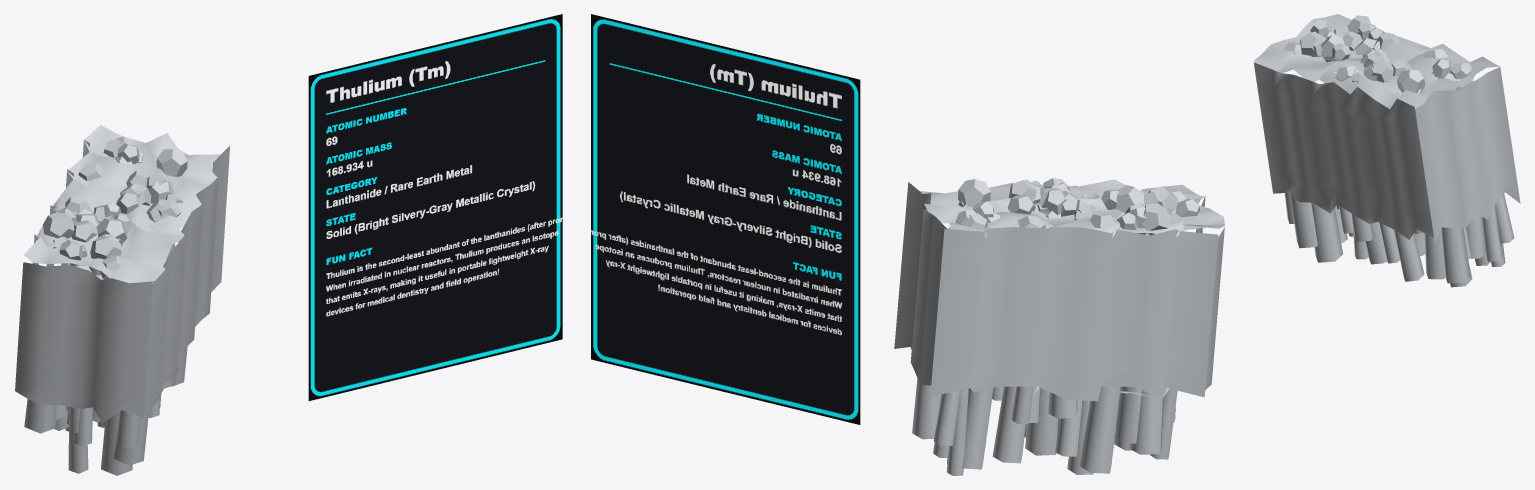
Rendered from thullium.glb.
The picture shows the model from 3 angles, left to right: view 1: azimuth 30°, elevation 25°; view 2: azimuth 150°, elevation 25°; view 3: azimuth 270°, elevation 25°; orthographic projection. The views are drawn at different scales.
Parts seen in each view (by area): view 1: Mesh_97, Mesh_0, Mesh_3, Mesh_46, Mesh_31, Mesh_43, Mesh_7, Mesh_68, Mesh_61, Mesh_49, Mesh_69; view 2: Mesh_97, Mesh_0, Mesh_11, Mesh_6, Mesh_45, Mesh_31, Mesh_29, Mesh_22, Mesh_52, Mesh_24, Mesh_47, Mesh_41 (+4 smaller); view 3: Mesh_0, Mesh_22, Mesh_3, Mesh_7, Mesh_10, Mesh_50, Mesh_9, Mesh_15, Mesh_47, Mesh_68, Mesh_26, Mesh_27 (+4 smaller).
Part boxes in pixels (x1,y1,x2,y2): Mesh_97: (308,14,562,400); Mesh_0: (15,125,229,423); Mesh_3: (101,411,132,475); Mesh_46: (68,407,88,473); Mesh_31: (24,399,56,433); Mesh_43: (116,410,140,448); Mesh_7: (113,414,148,465); Mesh_68: (156,149,187,176); Mesh_61: (43,212,74,238); Mesh_49: (73,407,92,446); Mesh_69: (90,235,121,259); Mesh_97: (591,14,860,424); Mesh_0: (894,179,1224,401); Mesh_11: (1079,386,1120,473); Mesh_6: (962,388,993,469); Mesh_45: (992,386,1025,463); Mesh_31: (1129,390,1163,454); Mesh_29: (1025,388,1058,455); Mesh_22: (912,378,941,439); Mesh_52: (1115,386,1141,443); Mesh_24: (946,388,968,475); Mesh_47: (933,390,959,445); Mesh_41: (1055,400,1082,456); Mesh_0: (1253,14,1520,242); Mesh_22: (1441,227,1470,283); Mesh_3: (1311,202,1342,262); Mesh_7: (1290,193,1317,248); Mesh_10: (1394,229,1424,281); Mesh_50: (1424,229,1445,279); Mesh_9: (1482,206,1503,261); Mesh_15: (1466,214,1486,258); Mesh_47: (1495,194,1514,243); Mesh_68: (1397,69,1425,92); Mesh_26: (1379,223,1399,263); Mesh_27: (1366,222,1387,264).
Bounding box in the file's own units: 2.54 × 1.4 × 1.16.
2 materials, 1 textured.
